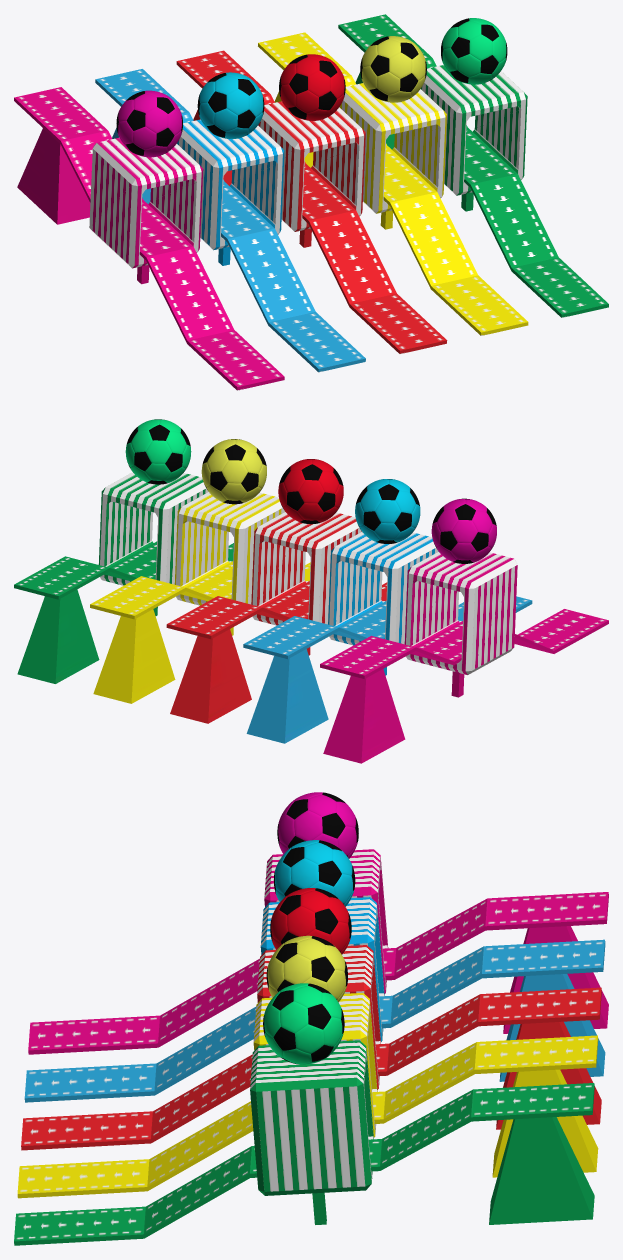
The model's file is football-ramp.glb.
3 renders of one model, top to bottom at view 1: azimuth 30°, elevation 25°; view 2: azimuth 150°, elevation 25°; view 3: azimuth 270°, elevation 25°, orthographic. The views are drawn at different scales.
Visible parts, largest first — view 1: Material_014-material, Material_010-material, Material_007-material, Material_013-material, Material_005-material, Material_015-material, Material_011-material, Material_008-material, Material_012-material, Material_003-material, Material_001-material (×5), Material_018-material (+4 smaller); view 2: Material_014-material, Material_015-material, Material_013-material, Material_010-material, Material_005-material, Material_007-material, Material_011-material, Material_008-material, Material_012-material, Material_003-material, Material_001-material (×5), Material_009-material (+4 smaller); view 3: Material_005-material, Material_007-material, Material_003-material, Material_013-material, Material_014-material, Material_010-material, Material_001-material (×5), Material_004-material, Material_018-material, Material_016-material, Material_017-material, Material_009-material (+4 smaller).
Boxes of the visible parts, x1,y1,x2,y2 form: Material_014-material: (14,87,284,390); Material_010-material: (176,50,447,353); Material_007-material: (258,32,528,335); Material_013-material: (95,69,365,372); Material_005-material: (338,14,608,317); Material_015-material: (89,137,203,284); Material_011-material: (258,101,365,247); Material_008-material: (339,83,446,229); Material_012-material: (177,119,284,265); Material_003-material: (421,65,527,211); Material_001-material (×5): (116,18,507,155); Material_018-material: (117,90,181,157); Material_014-material: (320,609,608,763); Material_015-material: (404,551,517,697); Material_013-material: (243,596,532,743); Material_010-material: (166,581,387,723); Material_005-material: (14,541,233,683); Material_007-material: (90,561,310,703); Material_011-material: (251,512,361,655); Material_008-material: (174,492,285,635); Material_012-material: (328,532,438,675); Material_003-material: (98,472,208,615); Material_001-material (×5): (127,419,496,563); Material_009-material: (201,439,266,502); Material_005-material: (14,1083,594,1245); Material_007-material: (17,1035,598,1198); Material_003-material: (250,1040,373,1224); Material_013-material: (24,939,605,1102); Material_014-material: (28,892,608,1054); Material_010-material: (21,987,601,1150); Material_001-material (×5): (263,792,358,1064); Material_004-material: (264,983,343,1064); Material_018-material: (278,792,357,858); Material_016-material: (271,888,350,954); Material_017-material: (275,840,353,906); Material_009-material: (267,935,346,1002).
Size of the model in its own units: 45.38 by 22.68 by 48.92.
16 materials, 10 textured.
